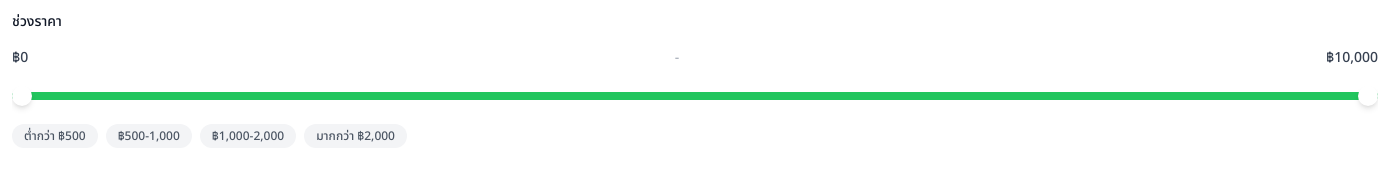
Test case: PriceFilter Component › quick preset button "ต่ำกว่า ฿500" works
Click the button "ต่ำกว่า ฿500" at (55, 136), box x1=12 y1=124 x2=98 y2=148
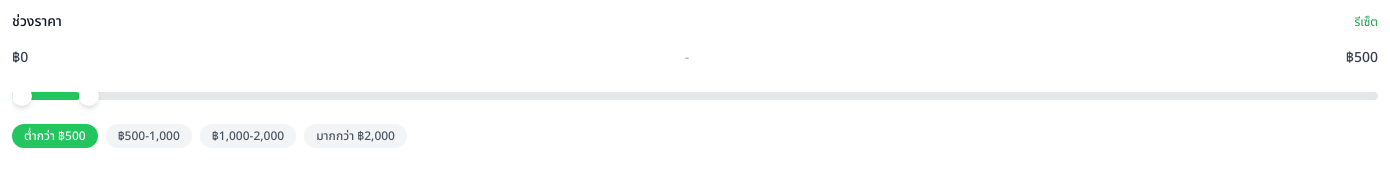
Expected: the text "฿500" is shown, x1=1346 y1=48 x2=1378 y2=68
